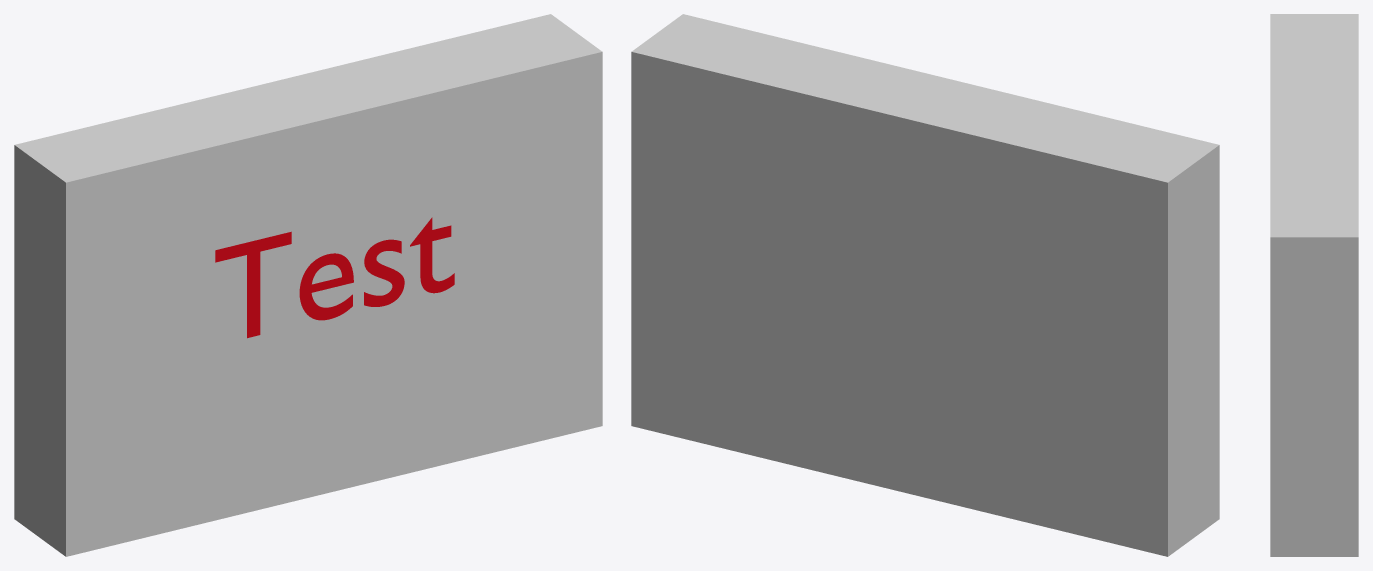
File: asset.glb
The picture shows the model from 3 angles, left to right: view 1: azimuth 30°, elevation 25°; view 2: azimuth 150°, elevation 25°; view 3: azimuth 270°, elevation 25°; orthographic projection. The views are drawn at different scales.
Visible parts, largest first — view 1: Cube, テキスト; view 2: Cube; view 3: Cube.
Part boxes in pixels (x1,y1,x2,y2): Cube: (14, 14, 602, 556); テキスト: (215, 217, 454, 338); Cube: (631, 14, 1219, 556); Cube: (1270, 14, 1358, 556).
Size of the model in its own units: 0.12 by 0.08 by 0.025.
